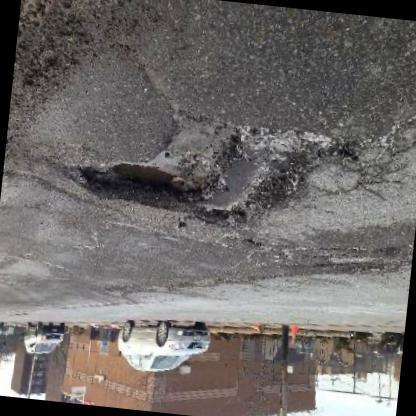pothole: (70, 111, 378, 229)
